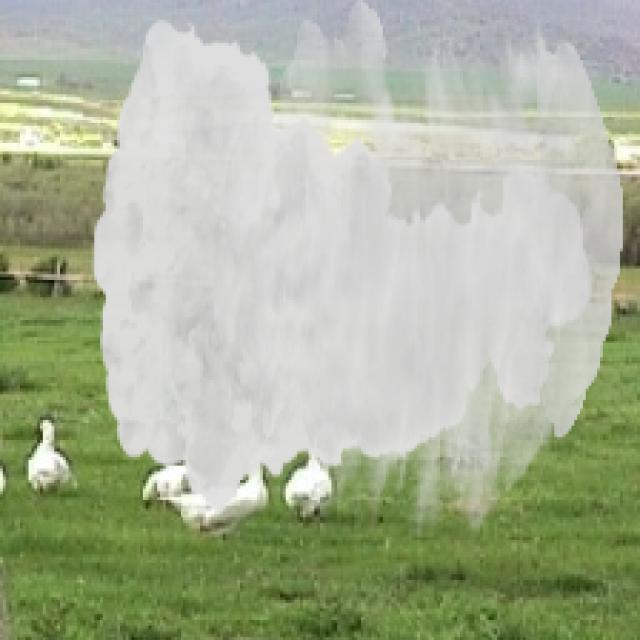Smoke: (91, 0, 623, 537)
